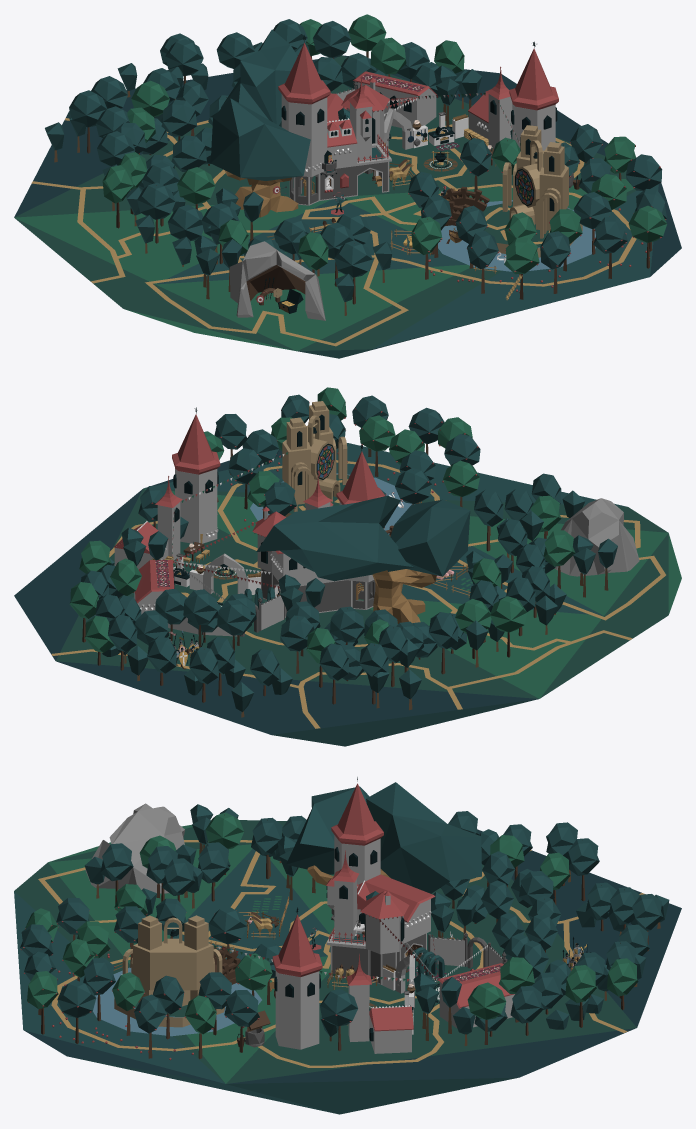
The picture shows the model from 3 angles, top to bottom: view 1: azimuth 30°, elevation 25°; view 2: azimuth 150°, elevation 25°; view 3: azimuth 270°, elevation 25°; orthographic projection. The views are drawn at different scales.
Visible parts, largest first — view 1: Plane_2_1, Cloner_8, APPLE_TREE_2, Metaball_1, Sweep, Cloner_6, Cloner_4, STONE, CAVE_ENTRANCE, TOWER_1, TOWER_1_1, HOUSE_1_1 (+24 smaller); view 2: Plane_2_1, Cloner_8, APPLE_TREE_2, Metaball_1, Cloner_6, Cloner_4, Sweep, TOWER_1_1, STONE, CAVE_ENTRANCE, Cylinder, HOUSE_1_1 (+23 smaller); view 3: Plane_2_1, APPLE_TREE_2, Cloner_8, Metaball_1, Cloner_6, STONE, TOWER_1_1, Sweep, Cloner_4, CAVE_ENTRANCE, TOWER_1, TOWER_2 (+27 smaller).
Boxes of the visible parts, left/top/right/bottom form: Plane_2_1: left=14, top=55, right=681, bottom=358; Cloner_8: left=69, top=19, right=439, bottom=304; APPLE_TREE_2: left=411, top=124, right=666, bottom=299; Metaball_1: left=210, top=29, right=310, bottom=180; Sweep: left=31, top=118, right=636, bottom=346; Cloner_6: left=113, top=55, right=343, bottom=171; Cloner_4: left=45, top=42, right=467, bottom=315; STONE: left=502, top=125, right=568, bottom=238; CAVE_ENTRANCE: left=229, top=241, right=325, bottom=320; TOWER_1: left=278, top=43, right=330, bottom=177; TOWER_1_1: left=509, top=48, right=558, bottom=150; HOUSE_1_1: left=353, top=71, right=436, bottom=128; Plane_2_1: left=14, top=443, right=681, bottom=746; Cloner_8: left=81, top=473, right=561, bottom=704; APPLE_TREE_2: left=204, top=387, right=480, bottom=518; Metaball_1: left=256, top=495, right=470, bottom=581; Cloner_6: left=135, top=588, right=437, bottom=681; Cloner_4: left=85, top=490, right=585, bottom=717; Sweep: left=51, top=460, right=665, bottom=728; TOWER_1_1: left=172, top=414, right=220, bottom=543; STONE: left=282, top=401, right=347, bottom=511; CAVE_ENTRANCE: left=554, top=498, right=639, bottom=576; Cylinder: left=372, top=569, right=436, bottom=623; HOUSE_1_1: left=134, top=560, right=174, bottom=614; Plane_2_1: left=14, top=820, right=681, bottom=1114; APPLE_TREE_2: left=20, top=884, right=281, bottom=1059; Cloner_8: left=100, top=811, right=663, bottom=1036; Metaball_1: left=286, top=782, right=481, bottom=893; Cloner_6: left=440, top=829, right=570, bottom=995; STONE: left=122, top=915, right=222, bottom=1006; TOWER_1_1: left=272, top=914, right=322, bottom=1049; Sweep: left=38, top=840, right=644, bottom=1067; Cloner_4: left=84, top=834, right=669, bottom=1045; CAVE_ENTRANCE: left=85, top=803, right=184, bottom=893; TOWER_1: left=331, top=783, right=383, bottom=884; TOWER_2: left=360, top=890, right=409, bottom=954.
Size of the model in its own units: 5578 by 3210 by 5953.
1 material, 1 textured.
